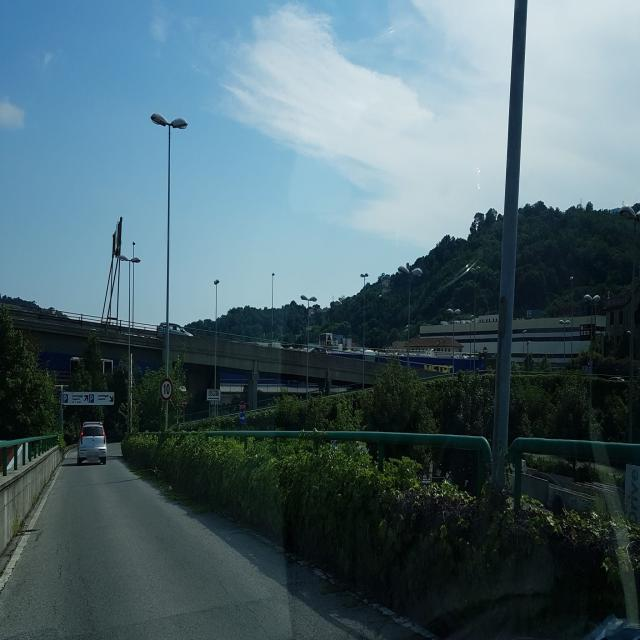car: (77, 420, 107, 466)
